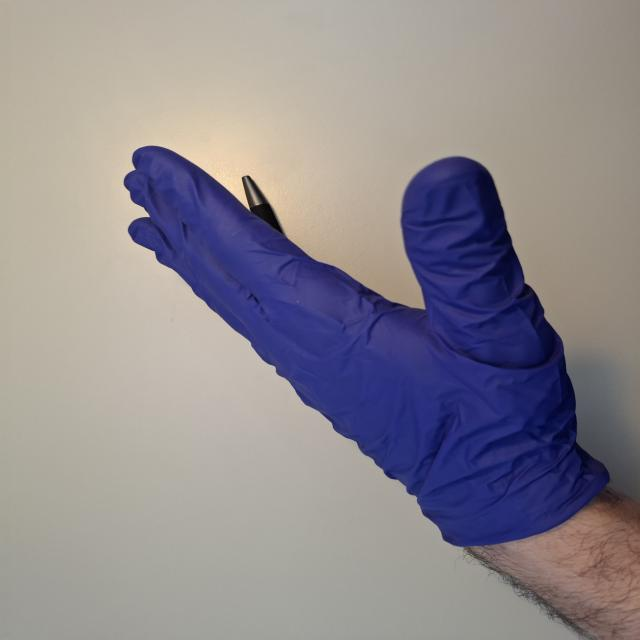glove_on: (121, 143, 598, 549)
